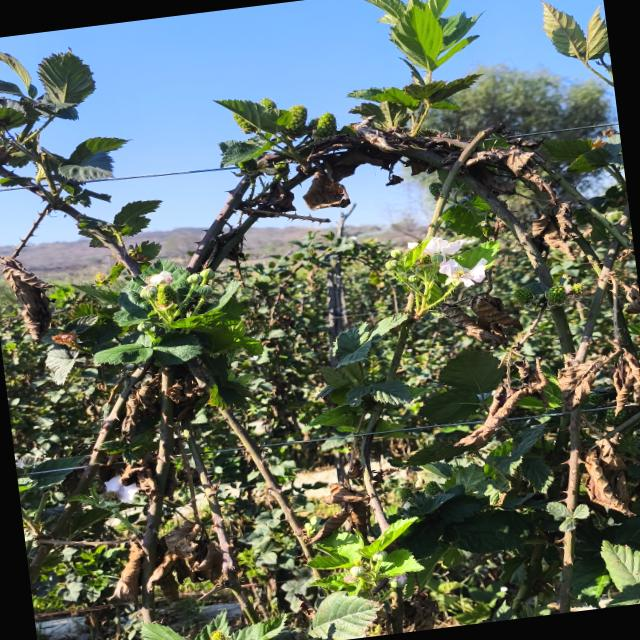boton: (139, 284, 157, 299), (349, 565, 366, 578), (197, 284, 212, 297), (371, 550, 387, 562), (186, 273, 201, 285), (200, 268, 215, 280), (137, 320, 153, 331), (385, 259, 398, 270), (390, 248, 403, 258), (407, 275, 417, 282)
flor: (439, 258, 485, 286), (423, 237, 470, 259)
